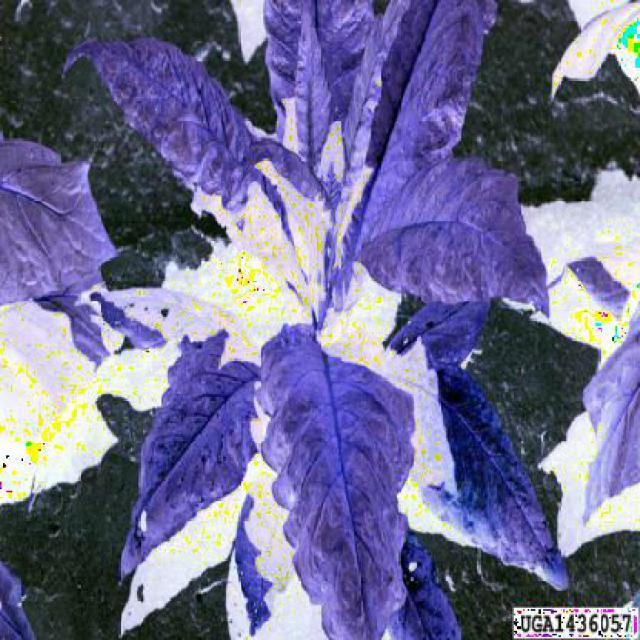Tomato yellow virus leaf: (59, 34, 308, 288), (254, 326, 418, 639), (125, 303, 258, 552), (364, 172, 556, 318)
